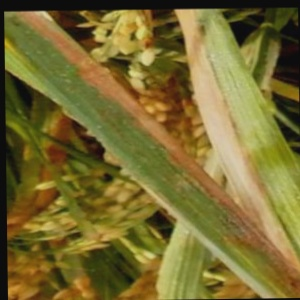Leaf_Blast: (5, 12, 105, 108)
